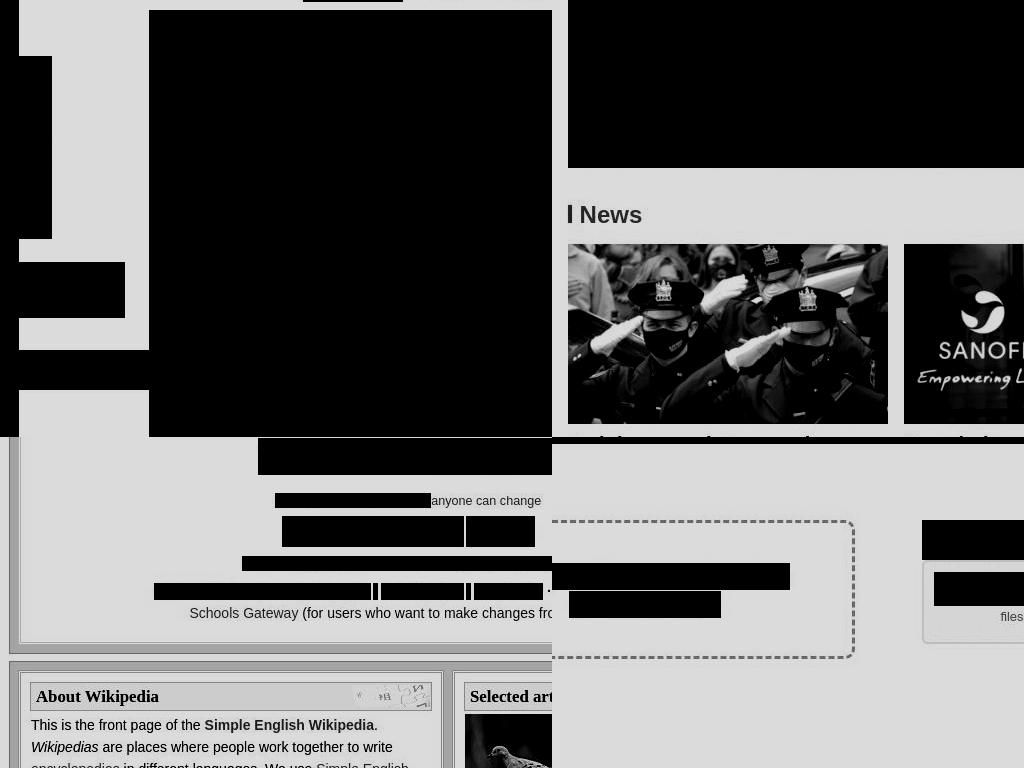button: (149, 10, 552, 437), (584, 139, 1024, 153), (0, 350, 153, 390)
field: (282, 516, 464, 547), (466, 516, 535, 547)
heading: (584, 15, 1024, 81), (0, 262, 125, 318), (258, 438, 430, 475), (428, 438, 552, 475), (36, 686, 159, 706), (568, 203, 643, 227), (470, 686, 552, 706)
image: (149, 10, 552, 437), (568, 0, 1024, 168), (568, 244, 888, 424), (904, 244, 1024, 424), (465, 714, 552, 768), (330, 685, 430, 708)
link: (154, 583, 371, 600), (204, 717, 374, 733), (189, 605, 299, 622), (433, 556, 552, 571), (431, 493, 542, 508), (381, 583, 464, 600), (323, 493, 404, 508), (474, 583, 543, 600), (306, 556, 352, 571), (316, 761, 410, 768), (31, 761, 120, 768)
text: (584, 89, 1024, 127), (552, 563, 790, 590), (98, 739, 393, 755), (298, 605, 552, 622), (569, 591, 721, 618), (922, 520, 1024, 560), (934, 572, 1024, 606), (31, 717, 205, 733), (0, 363, 135, 378), (934, 606, 1024, 627), (119, 761, 316, 768), (352, 556, 434, 571), (31, 739, 99, 755), (242, 556, 308, 571), (403, 493, 432, 508), (296, 493, 323, 508), (275, 493, 297, 508), (373, 583, 378, 600), (466, 583, 471, 600), (374, 717, 379, 733), (547, 583, 551, 600)
